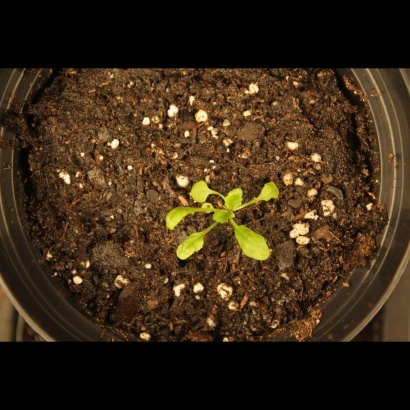leaf: (233, 223, 275, 269), (174, 229, 212, 261), (164, 202, 200, 232), (258, 175, 284, 211), (187, 175, 215, 208), (224, 187, 247, 210), (209, 207, 232, 230)
